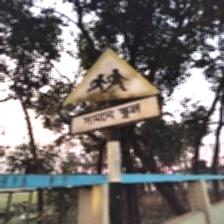School-in-front: (64, 48, 162, 137)
